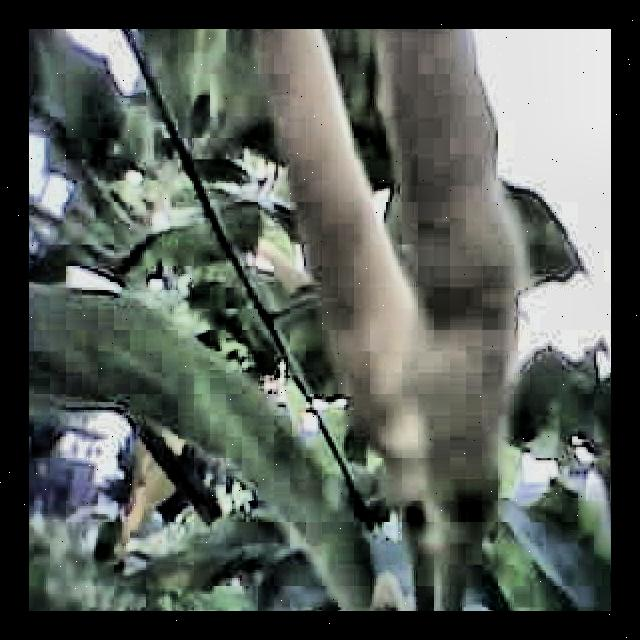Cabai: (392, 29, 523, 520), (264, 29, 389, 494)
